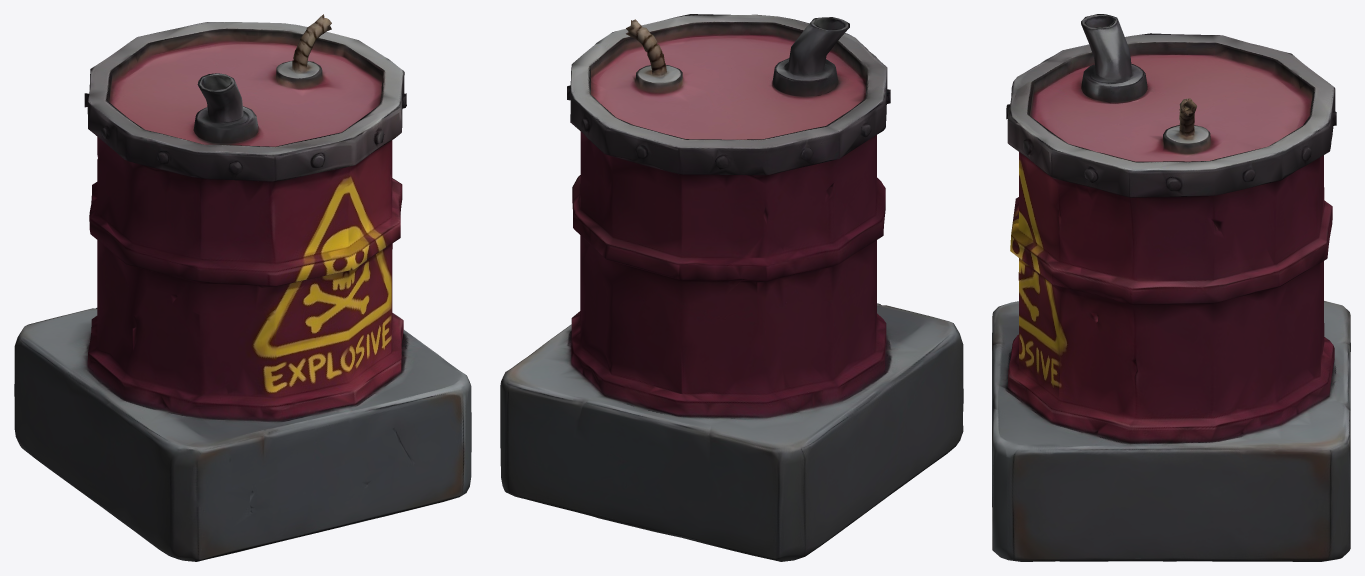
File: barril.glb
3 renders of one model, left to right at view 1: azimuth 30°, elevation 25°; view 2: azimuth 150°, elevation 25°; view 3: azimuth 270°, elevation 25°, orthographic. The views are drawn at different scales.
Parts seen in each view (by area): view 1: tripo_node_7125c35d-2672-4e2b-b9c7-01fd1c5ac236; view 2: tripo_node_7125c35d-2672-4e2b-b9c7-01fd1c5ac236; view 3: tripo_node_7125c35d-2672-4e2b-b9c7-01fd1c5ac236.
Part boxes in pixels (x1=…): tripo_node_7125c35d-2672-4e2b-b9c7-01fd1c5ac236: x1=14, y1=14, x2=471, y2=561; tripo_node_7125c35d-2672-4e2b-b9c7-01fd1c5ac236: x1=500, y1=14, x2=963, y2=561; tripo_node_7125c35d-2672-4e2b-b9c7-01fd1c5ac236: x1=992, y1=14, x2=1350, y2=561.
Size of the model in its own units: 0.7359 by 1 by 0.7416.
Materials: 1 (1 with a texture image).
